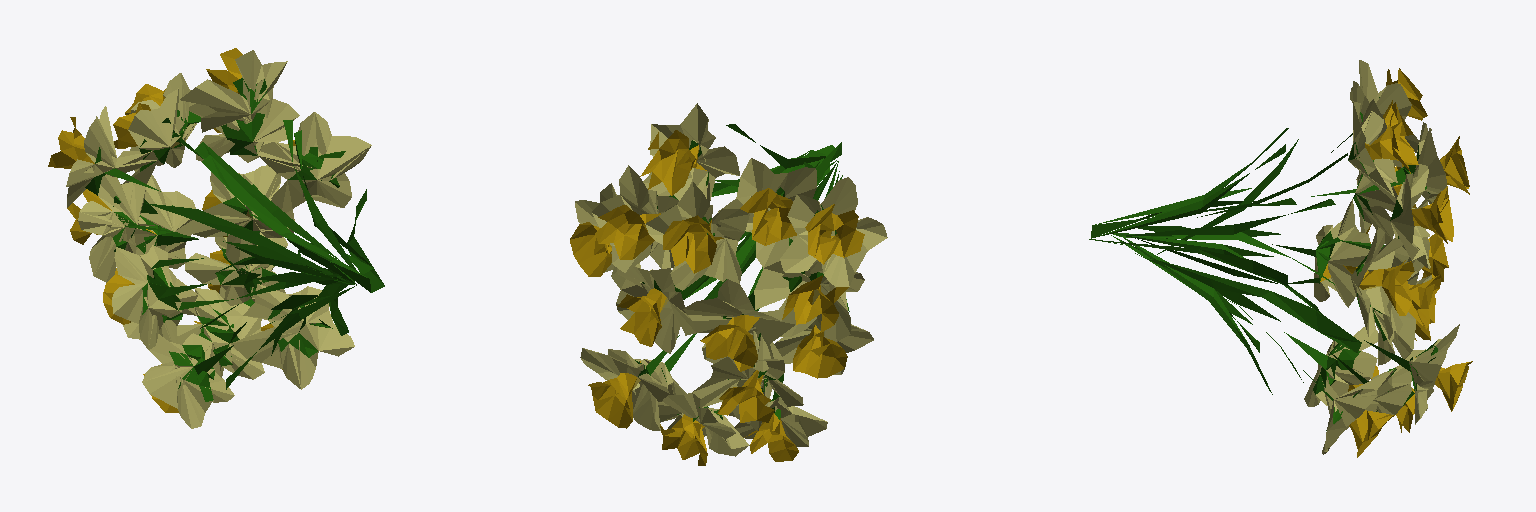
File: flower.obj
3 views of the same model, side by side, from view 1: azimuth 30°, elevation 25°; view 2: azimuth 150°, elevation 25°; view 3: azimuth 270°, elevation 25° (orthographic).
Visible parts, largest first — view 1: g_stalk_leaf_top; view 2: g_stalk_leaf_top; view 3: g_stalk_leaf_top.
Boxes of the visible parts, <box> form: g_stalk_leaf_top: <box>48,48,384,428</box>; g_stalk_leaf_top: <box>570,103,887,465</box>; g_stalk_leaf_top: <box>1089,60,1472,457</box>.
Size of the model in its own units: 30.55 by 32.3 by 33.07.